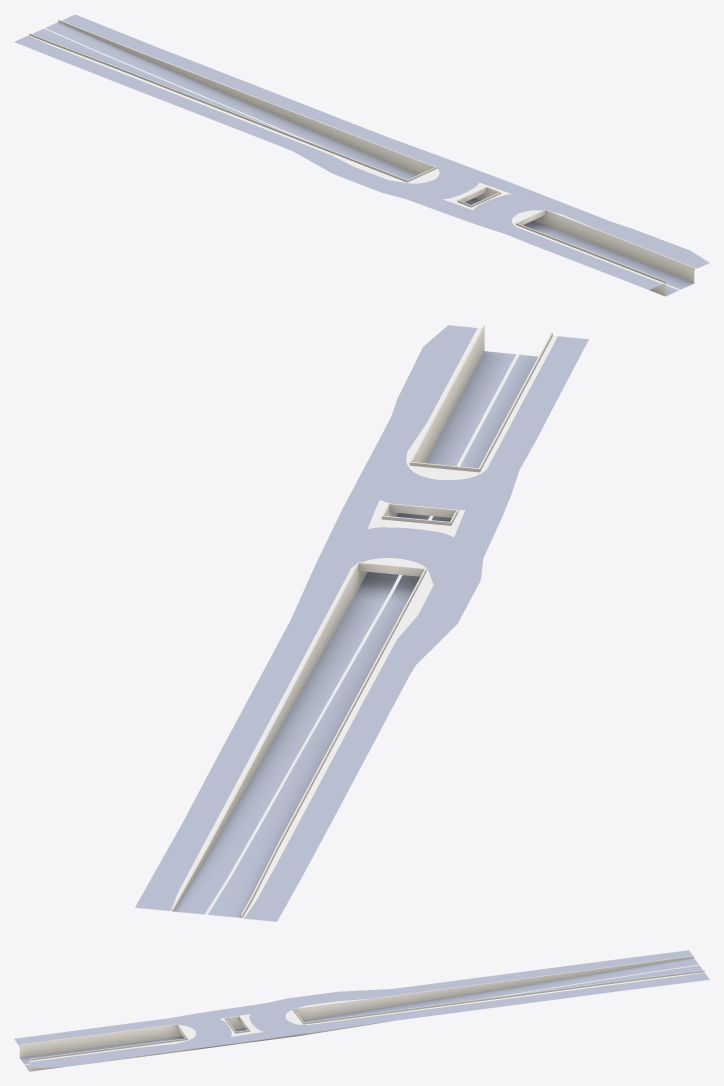
The model's file is Saina-Zhubanov3.glb.
3 views of the same model, one above another, from view 1: azimuth 30°, elevation 25°; view 2: azimuth 150°, elevation 25°; view 3: azimuth 270°, elevation 25° (orthographic). The views are drawn at different scales.
Parts seen in each view (by area): view 1: group_2.003, group_4, group_5; view 2: group_2.003, group_4, group_5; view 3: group_2.003, group_4, group_5.
Boxes of the visible parts, left/top/right/bottom form: group_2.003: left=14, top=14, right=709, bottom=296; group_4: left=29, top=20, right=694, bottom=296; group_5: left=28, top=28, right=696, bottom=290; group_2.003: left=135, top=325, right=588, bottom=921; group_4: left=172, top=325, right=552, bottom=917; group_5: left=171, top=328, right=557, bottom=918; group_2.003: left=14, top=950, right=709, bottom=1071; group_4: left=19, top=956, right=704, bottom=1071; group_5: left=19, top=957, right=705, bottom=1064.
Bounding box in the file's own units: 158 × 8 × 395.
3 materials, 2 textured.
